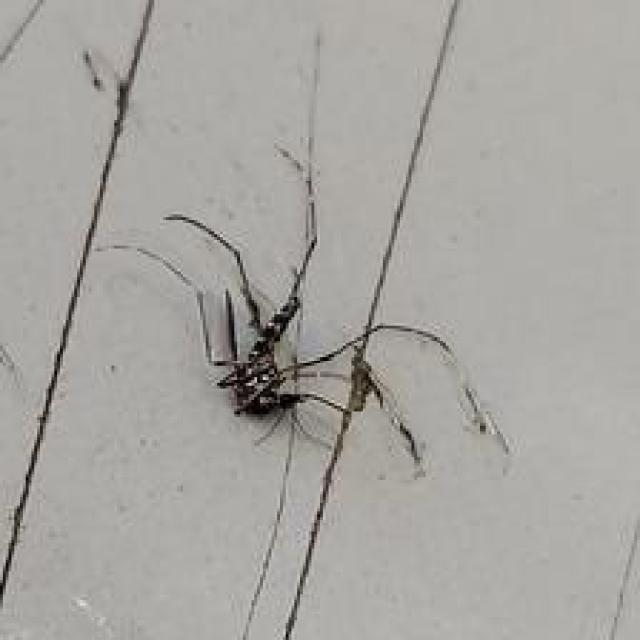Aedes albopictus: (1, 0, 516, 640)
